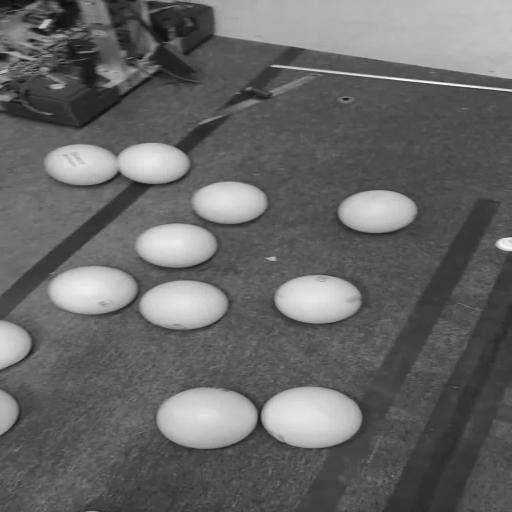fuel: (156, 388, 258, 449), (261, 387, 362, 448), (48, 266, 138, 314), (140, 281, 228, 330), (275, 275, 362, 324), (135, 223, 218, 268), (338, 191, 417, 233), (192, 182, 267, 224), (45, 145, 118, 185), (119, 143, 190, 184), (0, 321, 32, 369), (0, 390, 19, 435)
